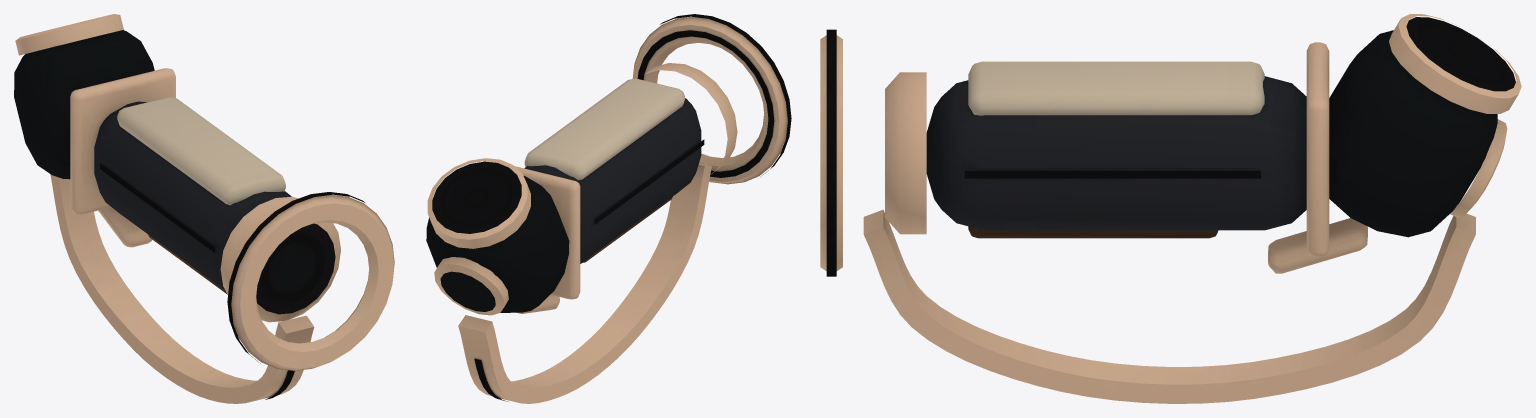
The model's file is vr-stick-transformed.glb.
3 renders of one model, left to right at view 1: azimuth 30°, elevation 25°; view 2: azimuth 150°, elevation 25°; view 3: azimuth 270°, elevation 25°, orthographic. The views are drawn at different scales.
Parts seen in each view (by area): view 1: stick; view 2: stick; view 3: stick.
Boxes of the visible parts, x1,y1,x2,y2 form: stick: [14, 14, 394, 403]; stick: [426, 14, 791, 403]; stick: [820, 14, 1521, 403].
Size of the model in its own units: 0.065 by 0.1078 by 0.1846.
Materials: 1 (1 with a texture image).
